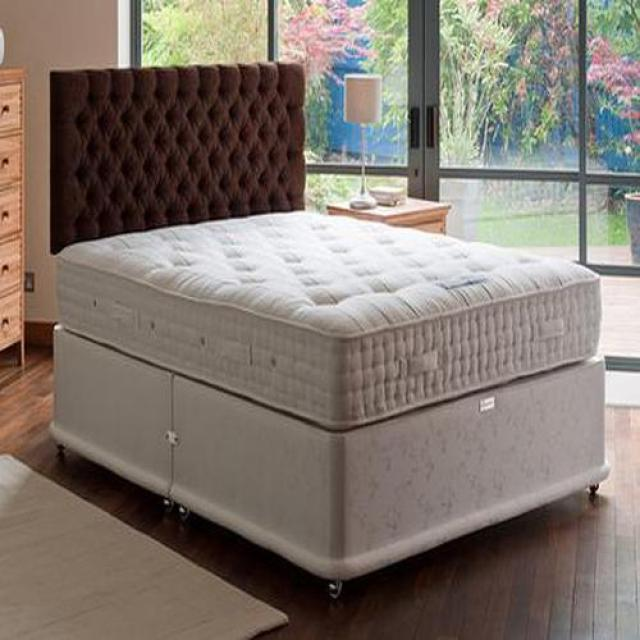bed: (47, 63, 613, 591)
